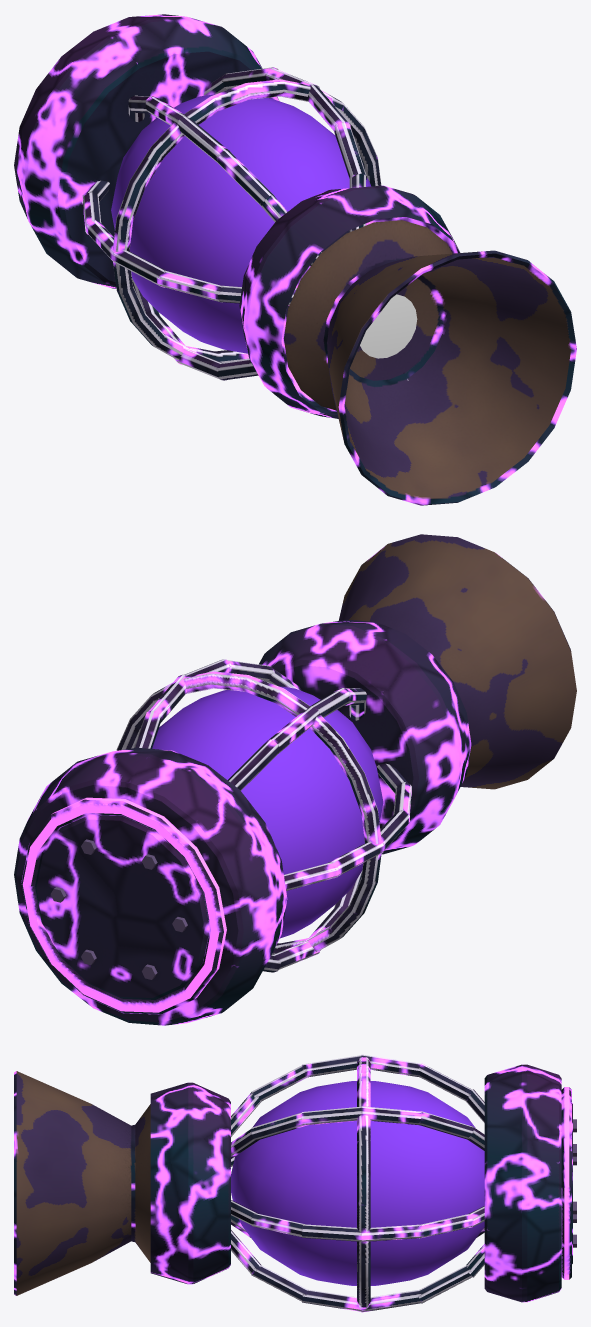
Rendered from motor_fusion_t5.fbx.
The picture shows the model from 3 angles, top to bottom: view 1: azimuth 30°, elevation 25°; view 2: azimuth 150°, elevation 25°; view 3: azimuth 270°, elevation 25°; orthographic projection. The views are drawn at different scales.
Visible parts, largest first — view 1: motor_fusion_t5, motor_fusion_t5_cristal, motor_fusion_t5_neon2; view 2: motor_fusion_t5, motor_fusion_t5_cristal; view 3: motor_fusion_t5, motor_fusion_t5_cristal.
Boxes of the visible parts, left/top/right/bottom form: motor_fusion_t5: left=14, top=14, right=576, bottom=505; motor_fusion_t5_cristal: left=111, top=94, right=371, bottom=353; motor_fusion_t5_neon2: left=360, top=294, right=417, bottom=358; motor_fusion_t5: left=14, top=534, right=576, bottom=1025; motor_fusion_t5_cristal: left=152, top=686, right=383, bottom=938; motor_fusion_t5: left=14, top=1054, right=576, bottom=1312; motor_fusion_t5_cristal: left=231, top=1081, right=484, bottom=1285.
Bounding box in the file's own units: 3.22 × 3.17 × 7.
